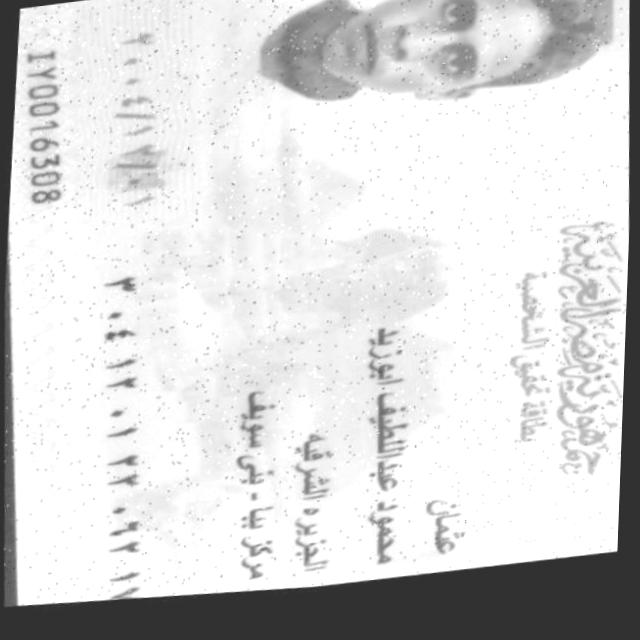id_card: (9, 0, 629, 604)
